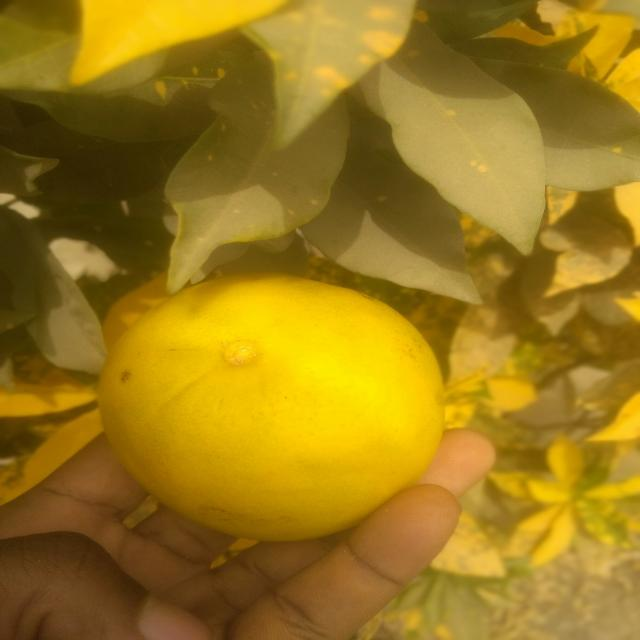Ripe orange: (102, 275, 455, 541)
